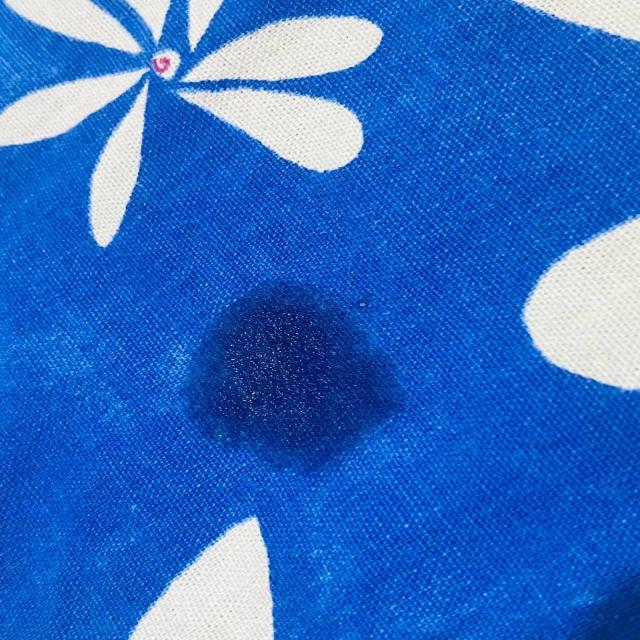stain: (185, 272, 406, 463)
